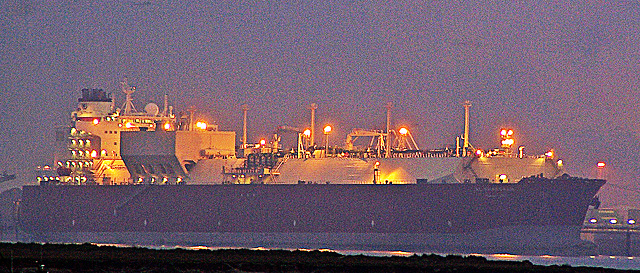LNG_ship: (21, 75, 608, 259)
